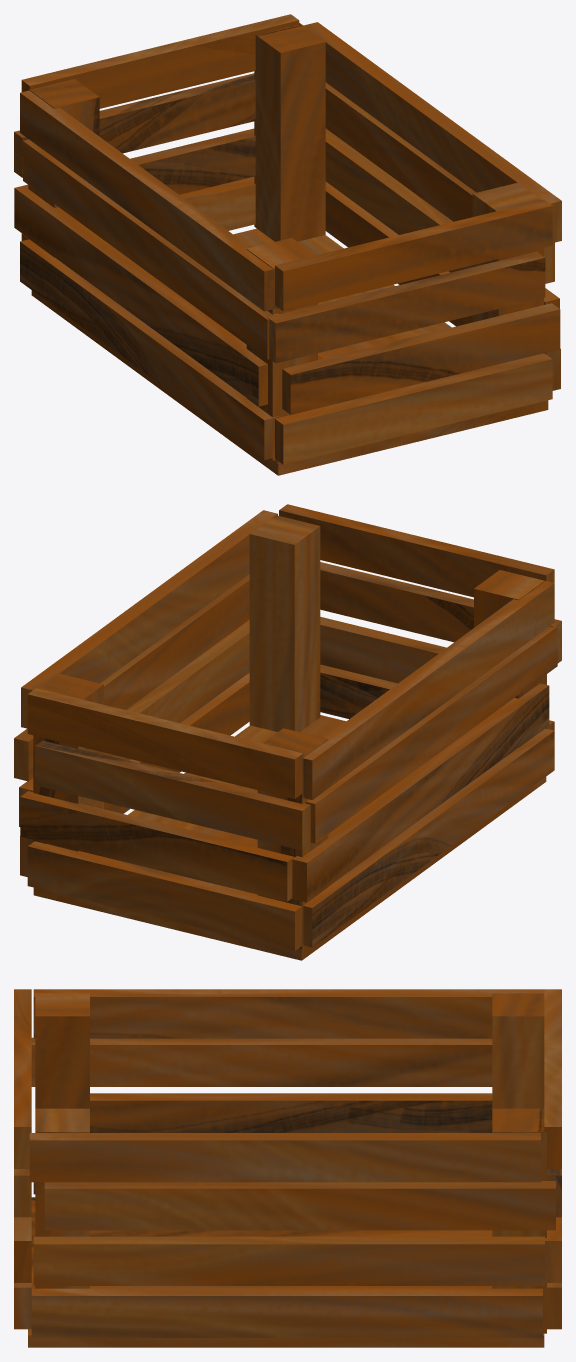
The model's file is WoodenCrate.glb.
3 renders of one model, top to bottom at view 1: azimuth 30°, elevation 25°; view 2: azimuth 150°, elevation 25°; view 3: azimuth 270°, elevation 25°, orthographic. The views are drawn at different scales.
Parts seen in each view (by area): view 1: WoodenCrate; view 2: WoodenCrate; view 3: WoodenCrate.
Boxes of the visible parts, x1,y1,x2,y2 form: WoodenCrate: (14,14,561,475); WoodenCrate: (14,504,561,960); WoodenCrate: (14,989,561,1347).
Size of the model in its own units: 1.31 by 0.8859 by 2.01.
1 material, 1 textured.
